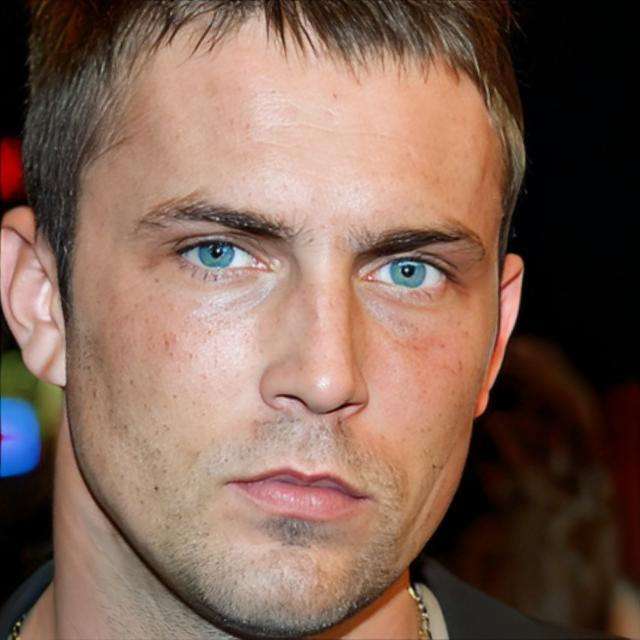anger: (74, 27, 496, 628)
